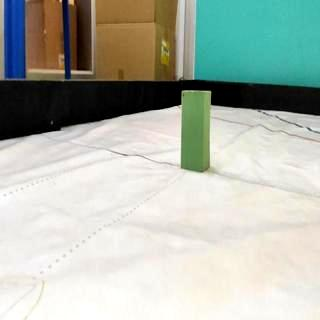greenbox: (180, 90, 212, 174)
